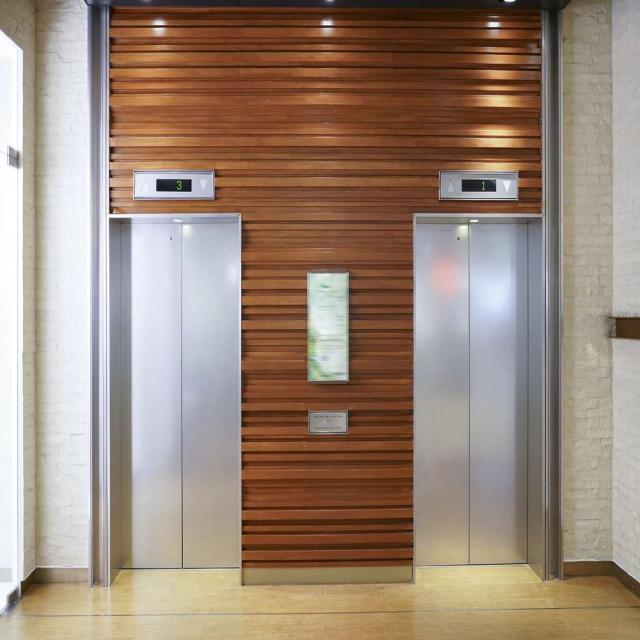elevator: (96, 154, 250, 586), (405, 158, 552, 591)
